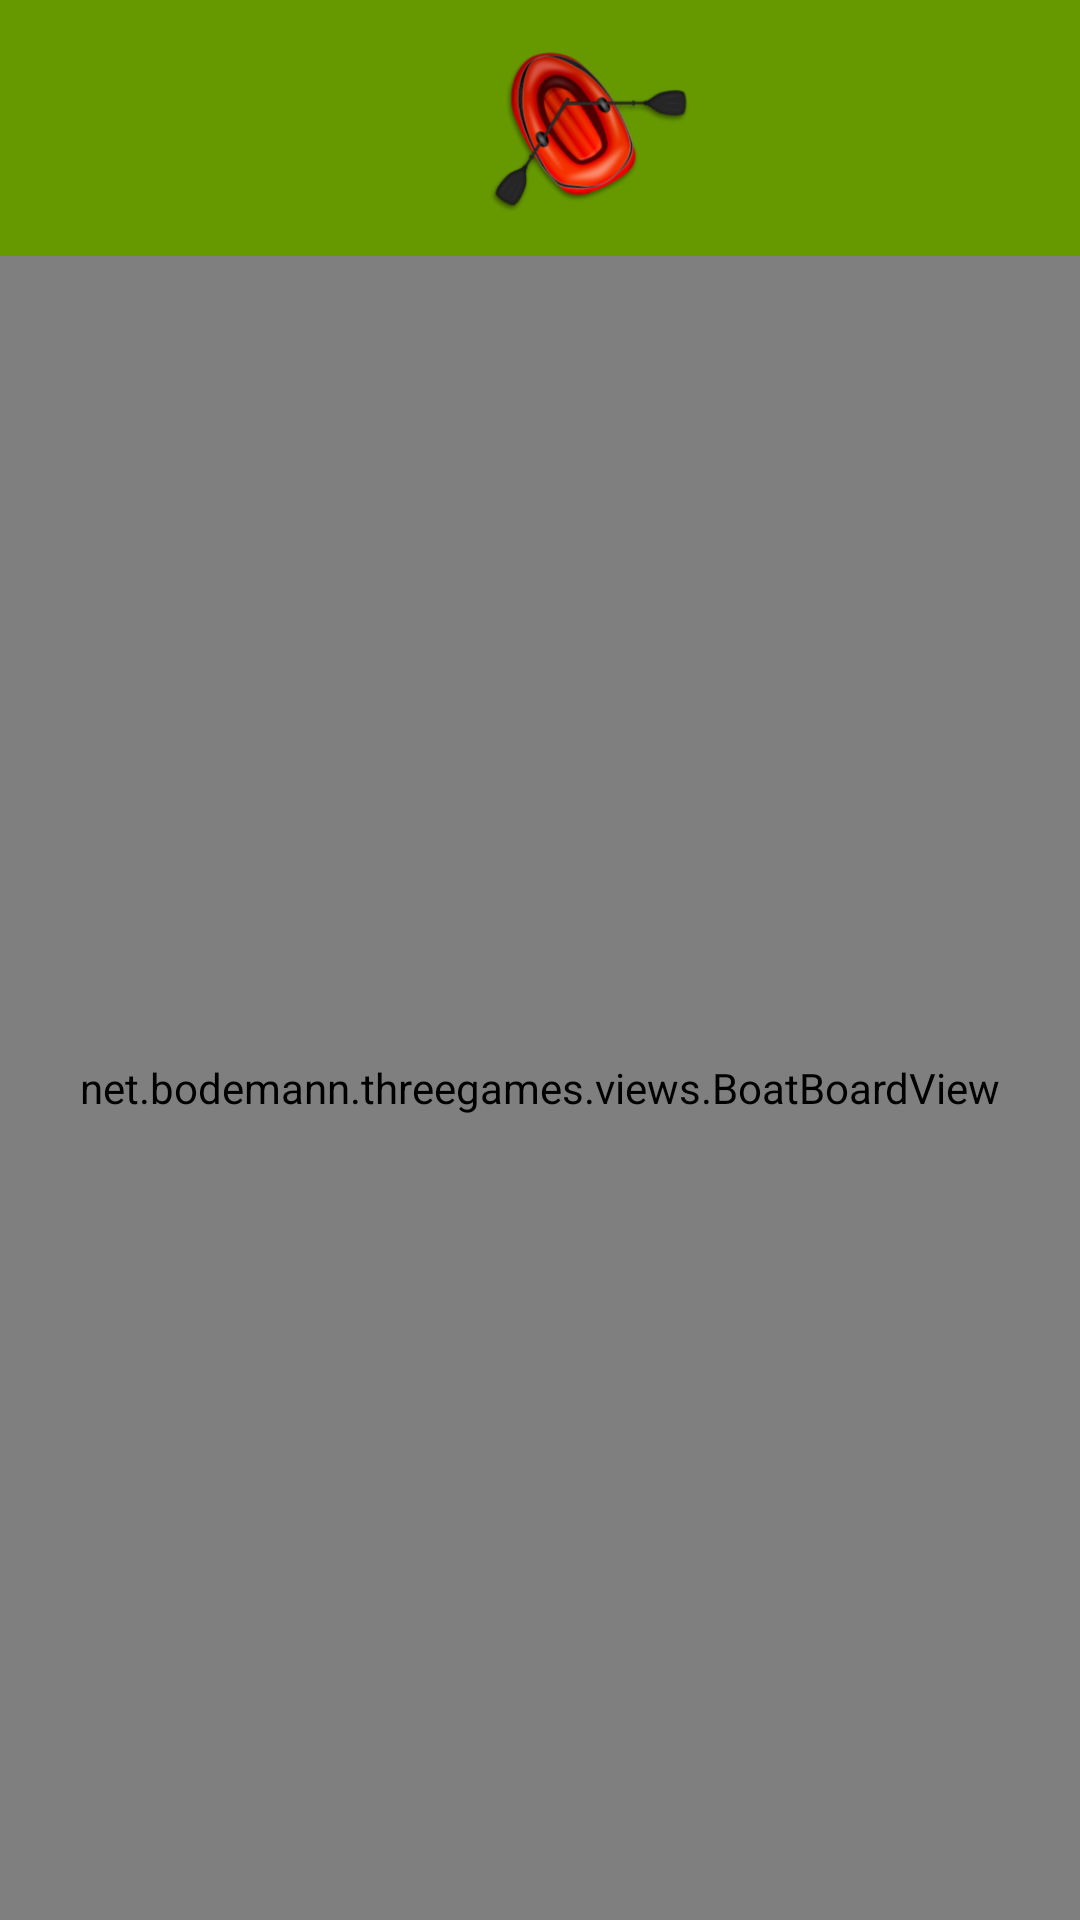

Where icons sit on this 1080w x 1920h app screen, as {"left": x1, "top": y1, "right": x2, "bottom": y2}:
only boat: {"left": 494, "top": 52, "right": 687, "bottom": 209}
